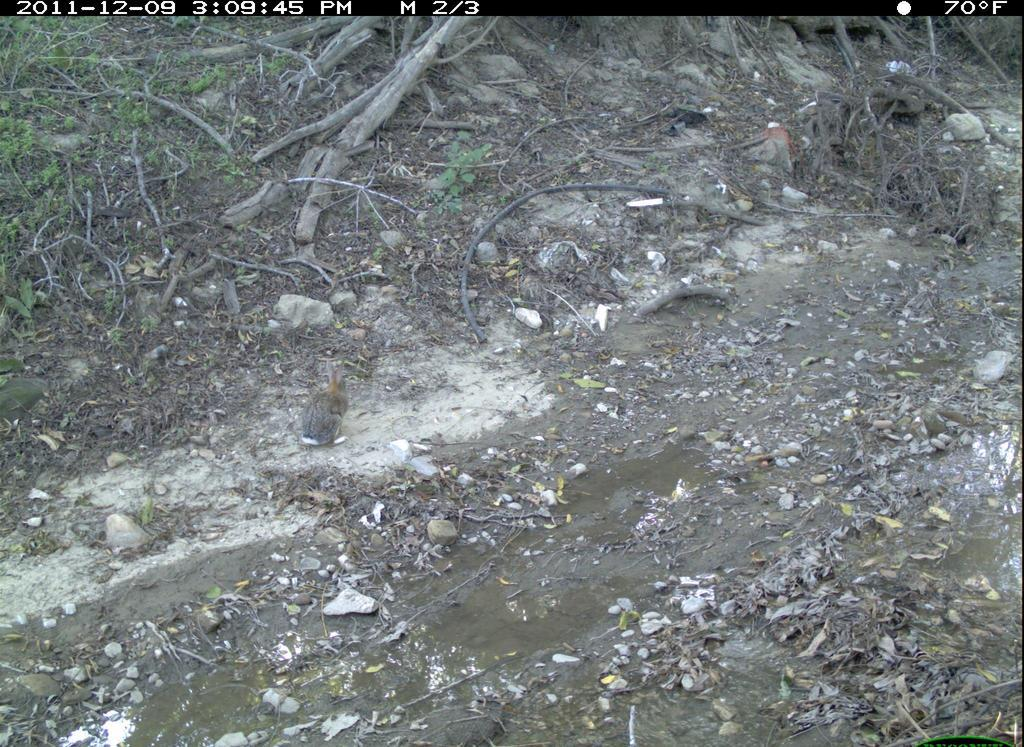rabbit: (294, 363, 363, 457)
